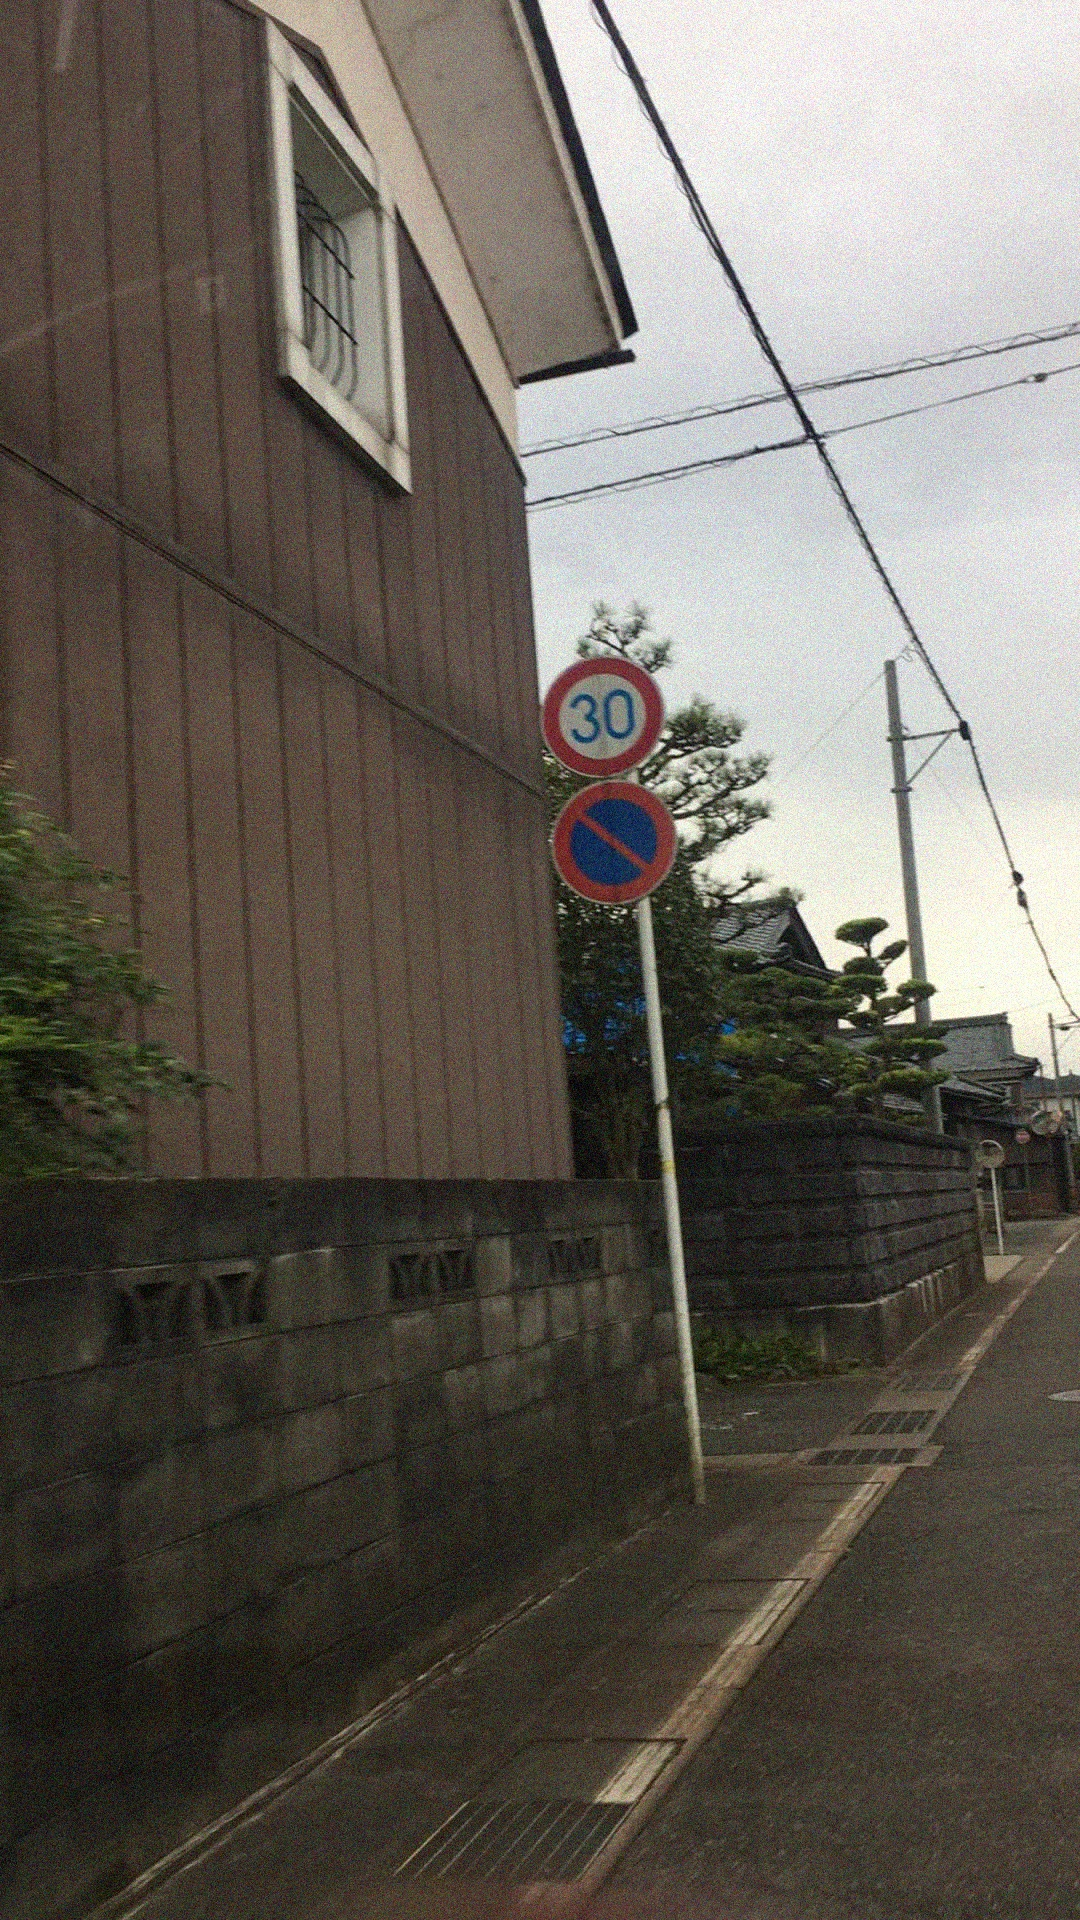Prohibition_sign: (546, 786, 686, 916)
Speed_sign: (530, 647, 690, 785)
